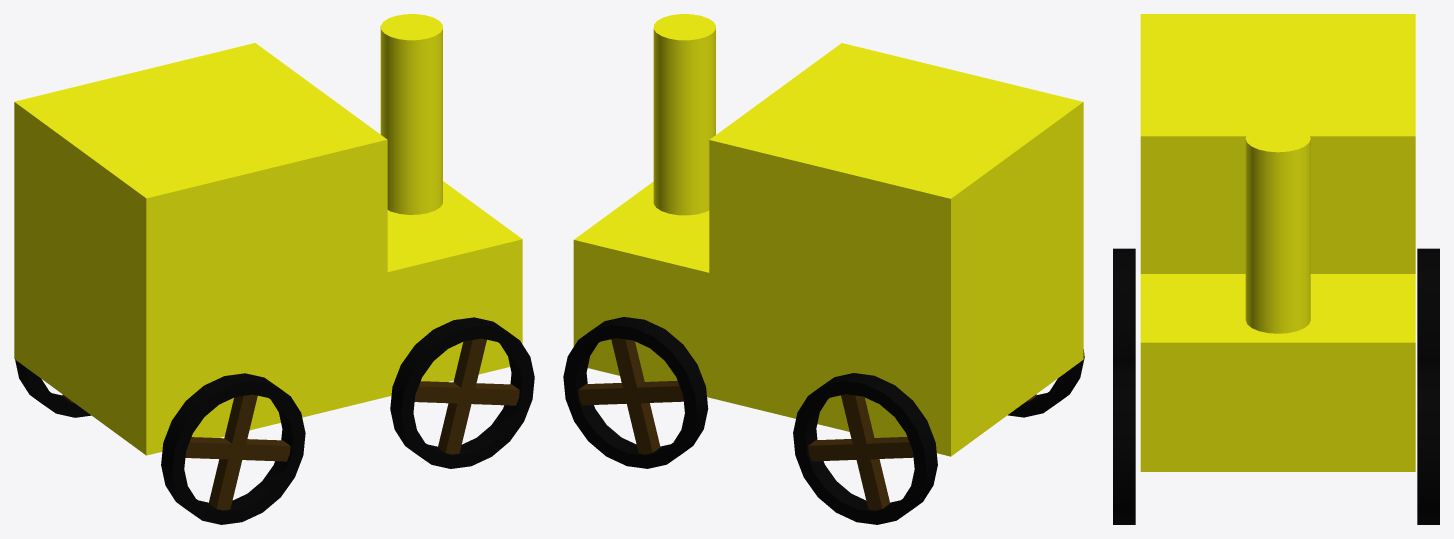
File: train1.fbx
3 renders of one model, left to right at view 1: azimuth 30°, elevation 25°; view 2: azimuth 150°, elevation 25°; view 3: azimuth 270°, elevation 25°, orthographic. The views are drawn at different scales.
Parts seen in each view (by area): view 1: pCube3, pCube4, wheel, wheel1, pCylinder1, wheel2; view 2: pCube3, pCube4, wheel2, wheel3, pCylinder1, wheel1; view 3: pCube3, pCube4, pCylinder1, wheel, wheel3, wheel1, wheel2.
Part boxes in pixels (x1=…): pCube3: x1=14, y1=43, x2=387, y2=455; pCube4: x1=387, y1=181, x2=522, y2=396; wheel: x1=390, y1=317, x2=534, y2=468; wheel1: x1=161, y1=373, x2=305, y2=524; pCylinder1: x1=380, y1=14, x2=442, y2=214; wheel2: x1=15, y1=359, x2=91, y2=417; pCube3: x1=709, y1=43, x2=1083, y2=456; pCube4: x1=573, y1=181, x2=709, y2=397; wheel2: x1=793, y1=373, x2=937, y2=524; wheel3: x1=563, y1=317, x2=708, y2=468; pCylinder1: x1=653, y1=14, x2=715, y2=215; wheel1: x1=1008, y1=349, x2=1084, y2=417; pCube3: x1=1140, y1=14, x2=1415, y2=273; pCube4: x1=1140, y1=274, x2=1415, y2=471; pCylinder1: x1=1245, y1=124, x2=1310, y2=333; wheel: x1=1113, y1=364, x2=1135, y2=524; wheel3: x1=1417, y1=364, x2=1439, y2=524; wheel1: x1=1113, y1=248, x2=1135, y2=364; wheel2: x1=1417, y1=248, x2=1439, y2=364.
Bounding box in the file's own units: 2.88 × 2.75 × 2.08.
